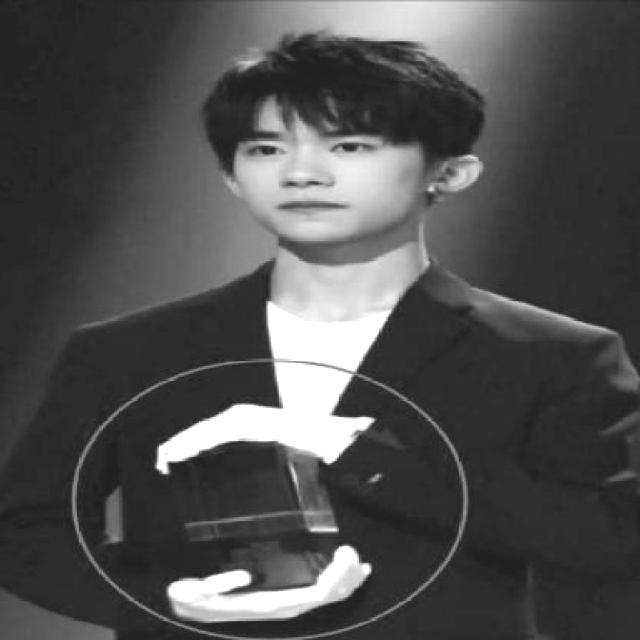face_nomask: (238, 125, 389, 240)
hand_glove: (146, 400, 363, 477), (176, 544, 376, 622)
head_nohelmet: (202, 23, 480, 135)
person: (19, 7, 630, 640)
